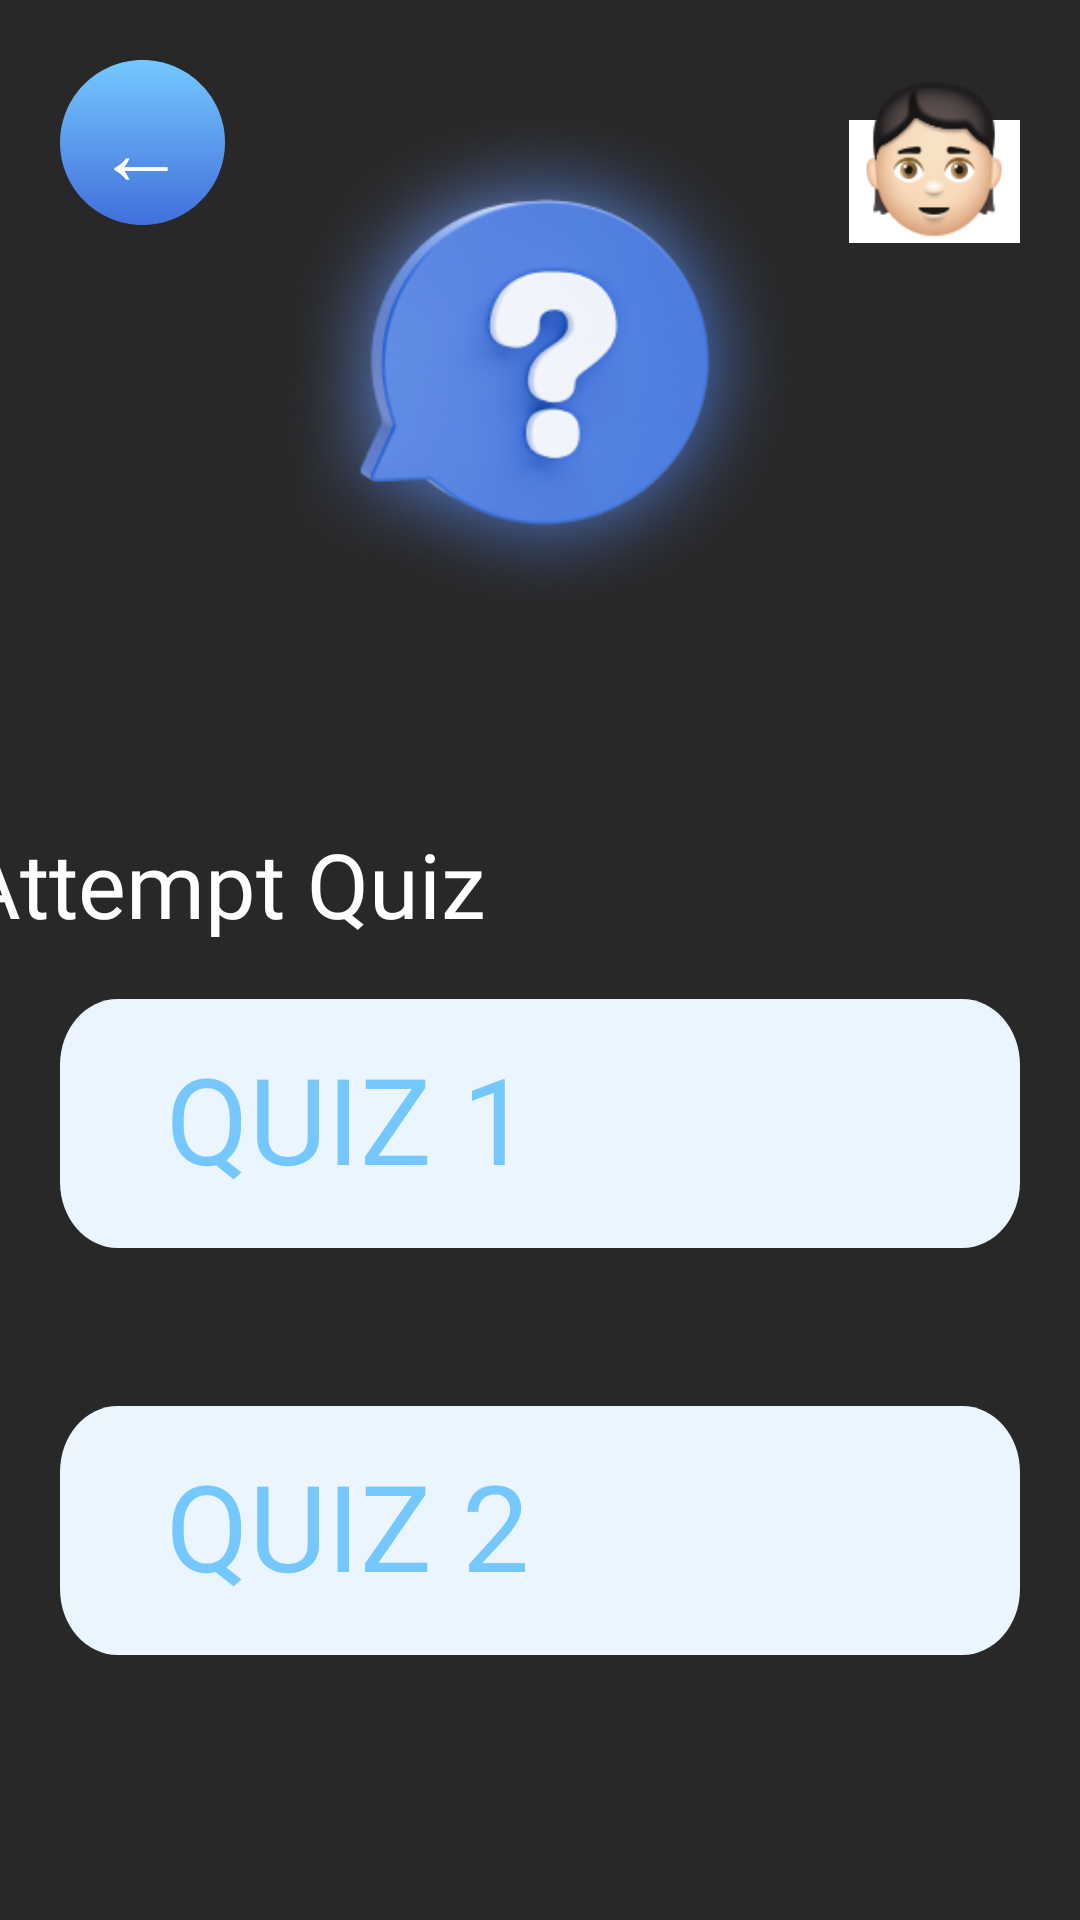

Icon bounding boxes for this 1080 × 1920 phone screenshot, format [x1=x1, y1=y1, x2=x2, y2=y2]:
back: [x1=60, y1=60, x2=225, y2=225]
